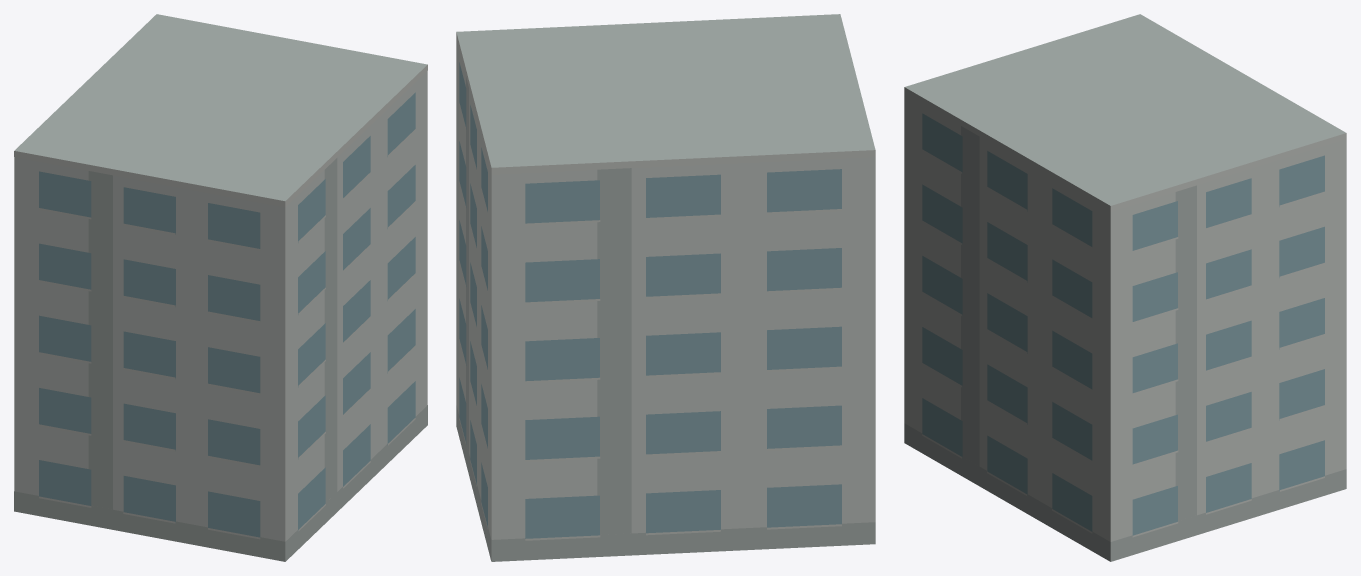
Rendered from residential-9466d988-6282-4223-b5f9-094a14dc577d.glb.
3 renders of one model, left to right at view 1: azimuth 30°, elevation 25°; view 2: azimuth 150°, elevation 25°; view 3: azimuth 270°, elevation 25°, orthographic. The views are drawn at different scales.
Visible parts, largest first — view 1: residential-9466d988-6282-4223-b5f9-094a14dc577d.tmp; view 2: residential-9466d988-6282-4223-b5f9-094a14dc577d.tmp; view 3: residential-9466d988-6282-4223-b5f9-094a14dc577d.tmp.
Boxes of the visible parts, x1,y1,x2,y2 form: residential-9466d988-6282-4223-b5f9-094a14dc577d.tmp: (14, 14, 427, 561); residential-9466d988-6282-4223-b5f9-094a14dc577d.tmp: (456, 14, 875, 561); residential-9466d988-6282-4223-b5f9-094a14dc577d.tmp: (904, 14, 1346, 561).
Size of the model in its own units: 16.43 by 14.2 by 16.
